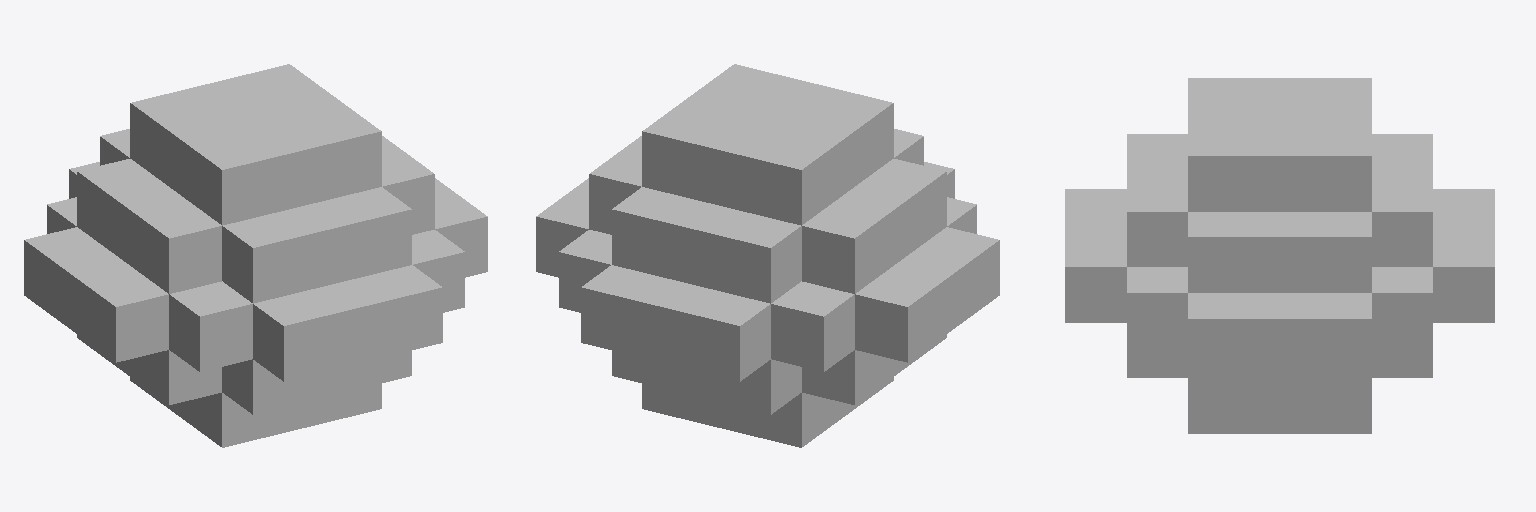
File: Snobal.obj
The picture shows the model from 3 angles: view 1: azimuth 30°, elevation 25°; view 2: azimuth 150°, elevation 25°; view 3: azimuth 270°, elevation 25°; orthographic projection.
Bounding box in the file's own units: 7 × 5 × 7.